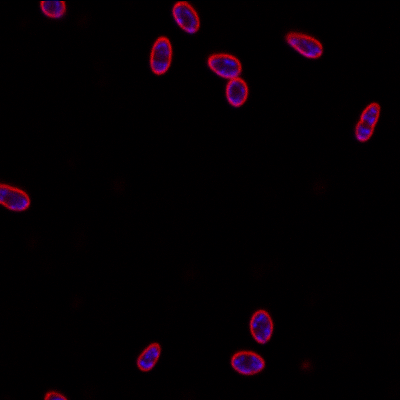Mecillinam: (284, 30, 325, 59), (354, 101, 381, 143), (172, 0, 202, 35), (248, 307, 275, 344), (204, 54, 243, 79), (149, 34, 173, 74), (230, 351, 267, 376), (135, 340, 163, 372), (225, 76, 250, 110)
